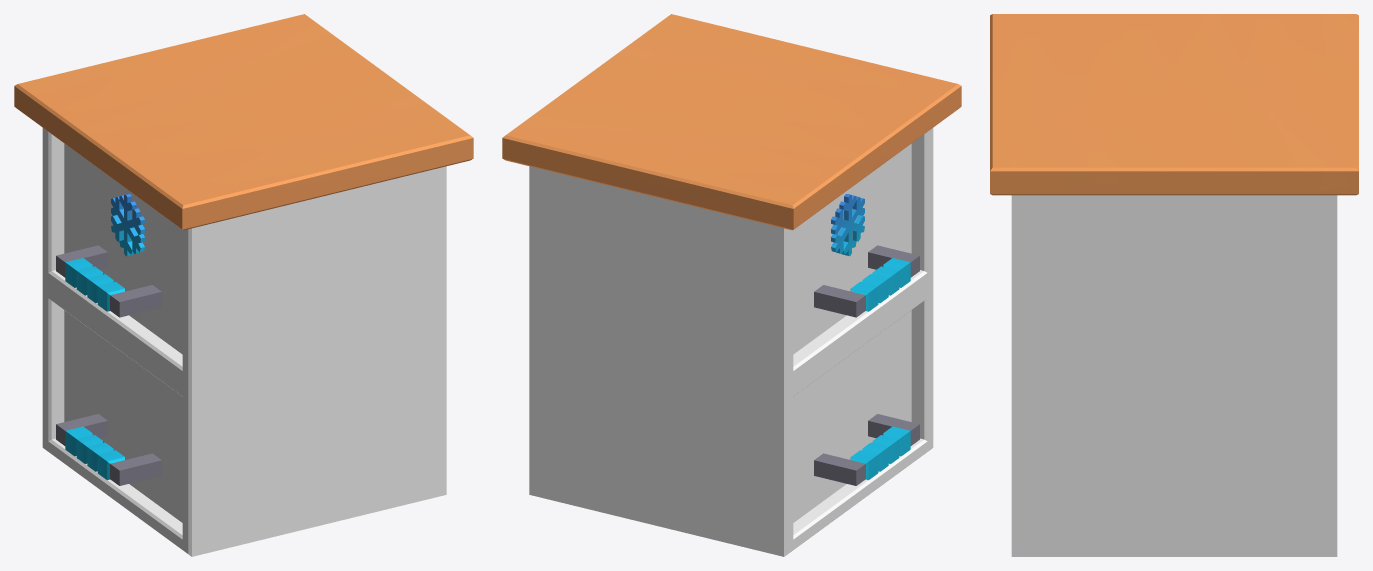
The model's file is Freeze_M.fbx.
The picture shows the model from 3 angles, left to right: view 1: azimuth 30°, elevation 25°; view 2: azimuth 150°, elevation 25°; view 3: azimuth 270°, elevation 25°; orthographic projection. The views are drawn at different scales.
Visible parts, largest first — view 1: pasted__Part_01, pasted__Part_01_2, pasted__Part_01_1; view 2: pasted__Part_01, pasted__Part_01_2, pasted__Part_01_1; view 3: pasted__Part_01.
Part boxes in pixels (x1,y1,x2,y2): pasted__Part_01: (14,14,473,556); pasted__Part_01_2: (56,310,182,522); pasted__Part_01_1: (56,143,182,354); pasted__Part_01: (502,14,961,556); pasted__Part_01_2: (793,310,919,522); pasted__Part_01_1: (793,143,919,354); pasted__Part_01: (990,14,1358,556).
Size of the model in its own units: 99.07 by 113 by 95.11.
1 material, 1 textured.
